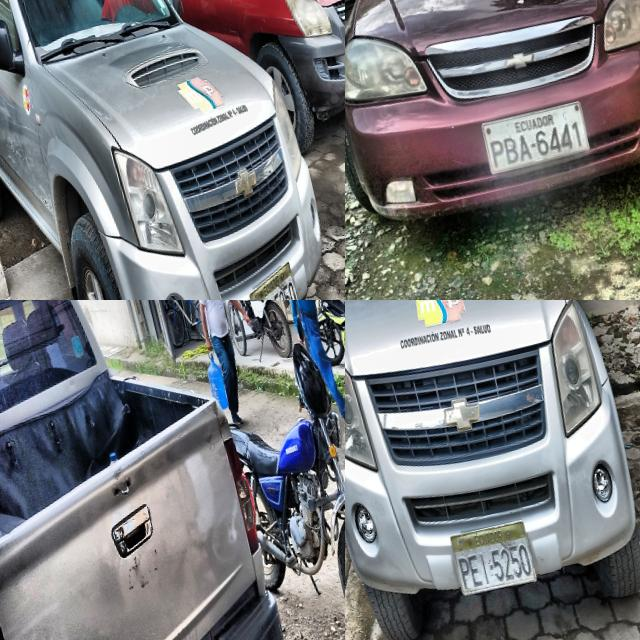license_plate: (478, 96, 592, 176), (447, 516, 539, 599), (247, 259, 299, 300)
